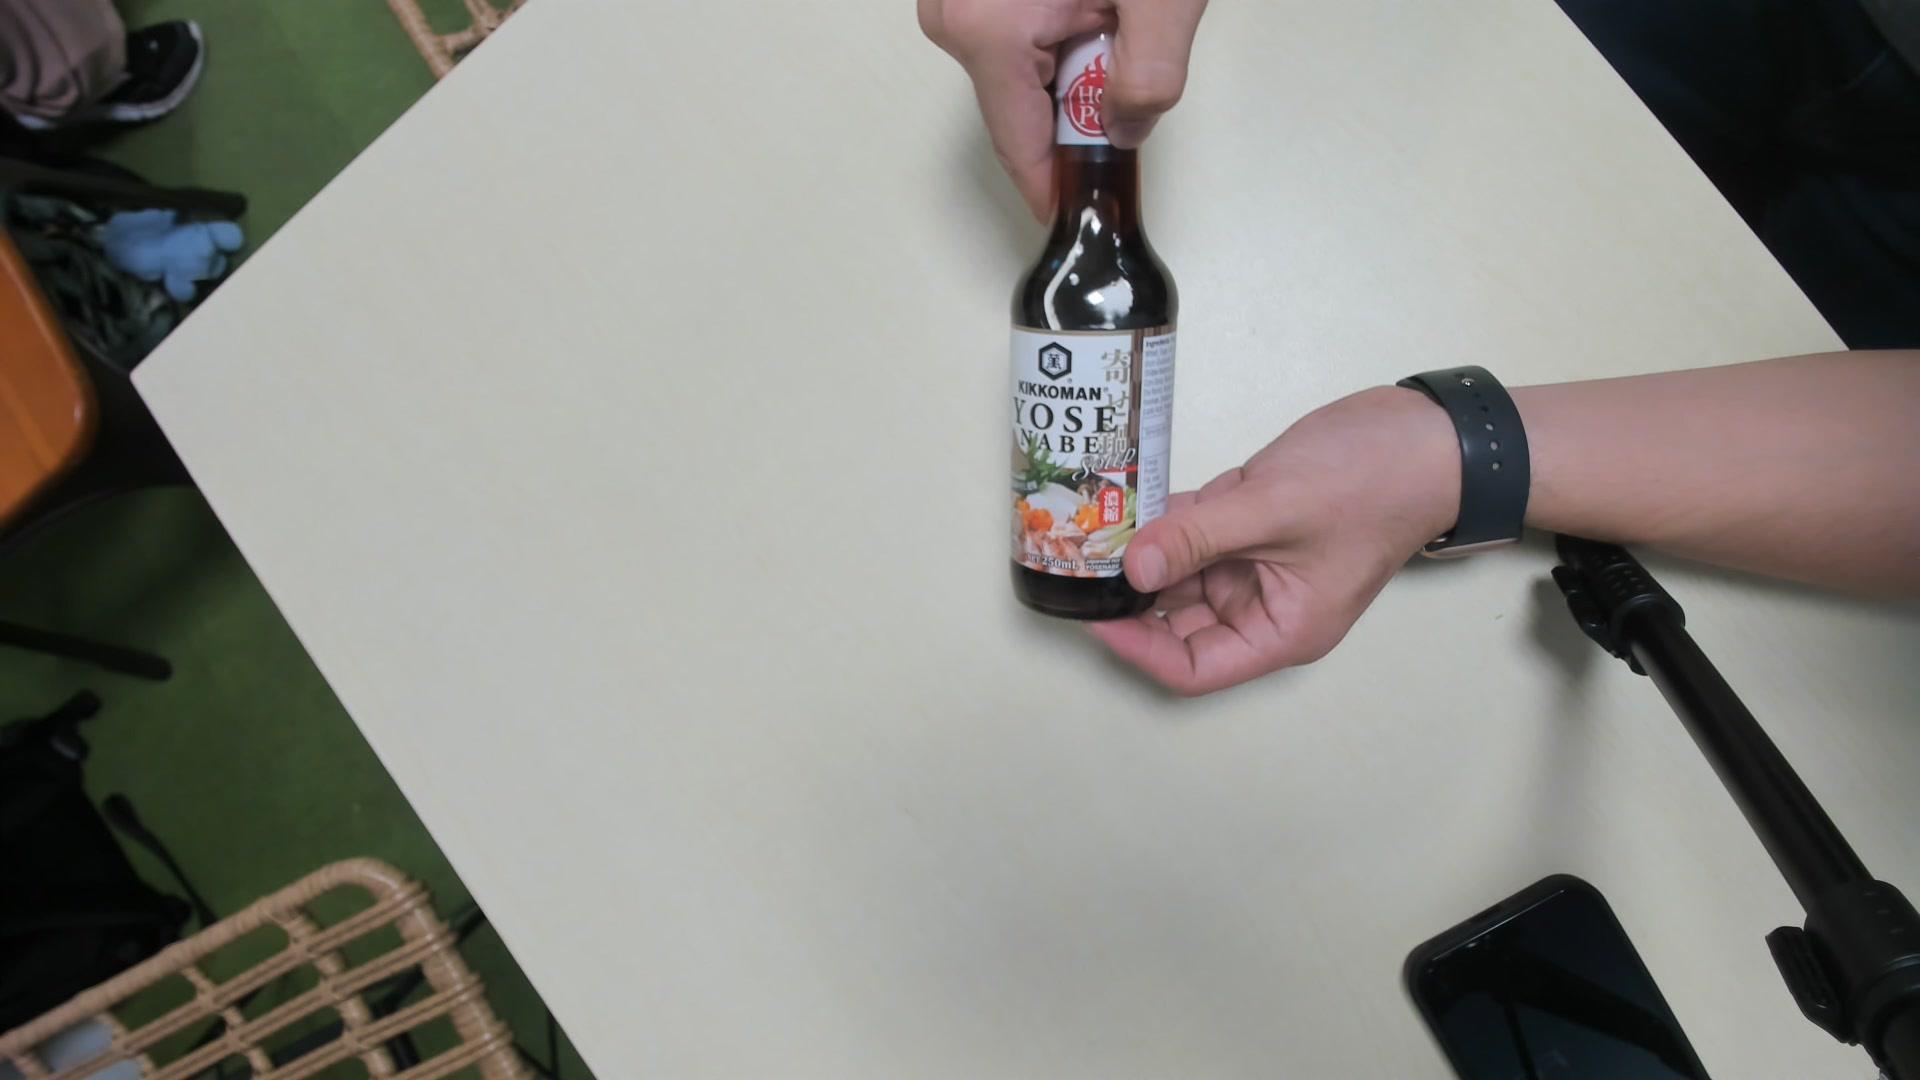OtherSauceDressing_200-299g_NonHalal_NonHealthy: (1005, 34, 1178, 626)
